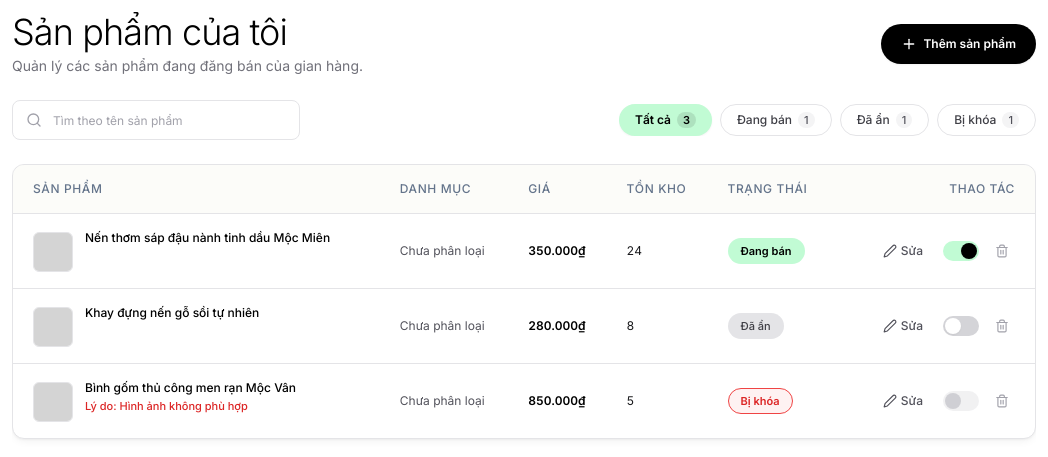
Scenario: MyProductsPage › filters products by search input
Check: the text "Nến thơm sáp đậu nành tinh dầu Mộc Miên" is shown, box [85,230,330,246]
Type "Khay" into the search field with placeholder "Tìm theo tên sản phẩm" at (156, 120), box [12,100,300,140]
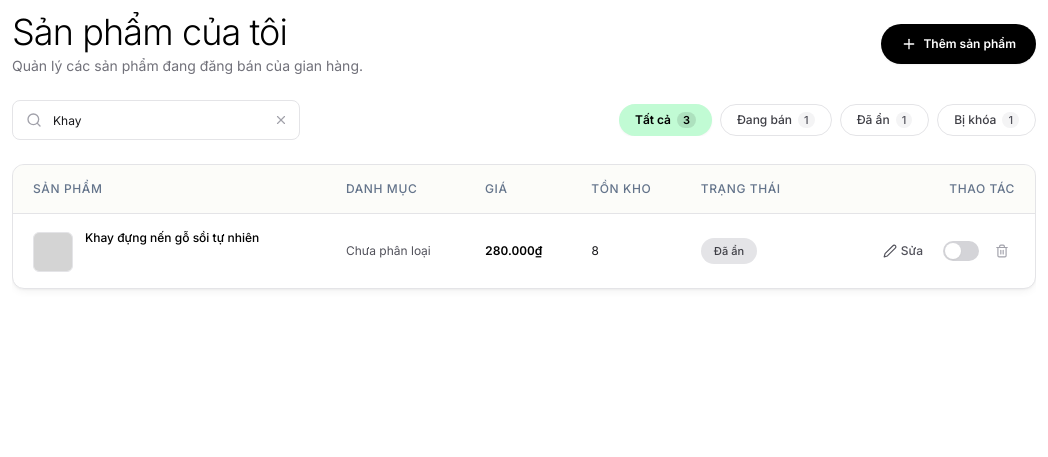
Check: the text "Khay đựng nến gỗ sồi tự nhiên" is shown, box [85,230,259,246]
Check: the text "Nến thơm sáp đậu nành tinh dầu Mộc Miên" is gone
